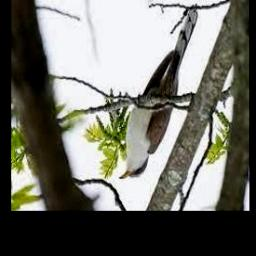Cuckoo: (117, 9, 197, 180)
